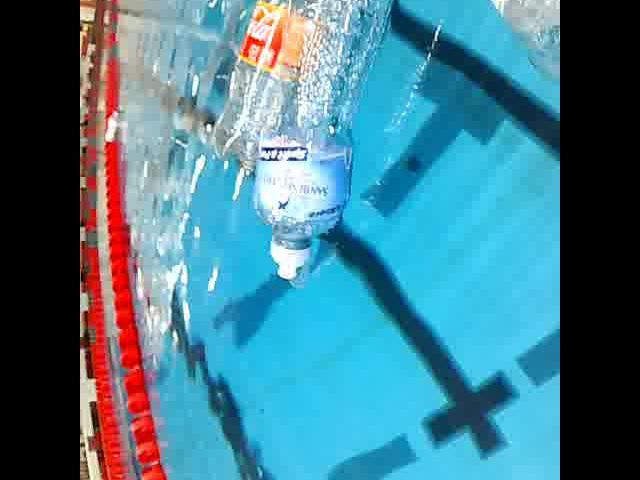Bottle: (246, 0, 402, 291), (204, 0, 354, 184), (413, 0, 560, 89), (102, 104, 128, 146)
